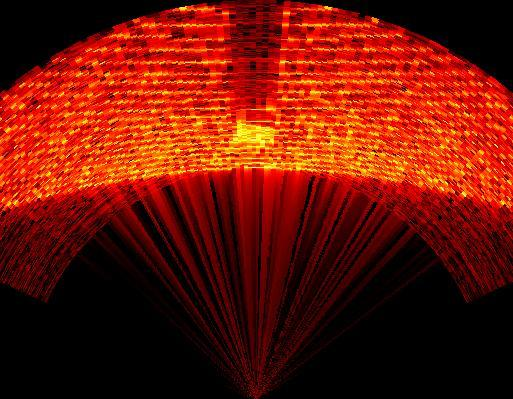box_crate: (213, 4, 284, 122)
